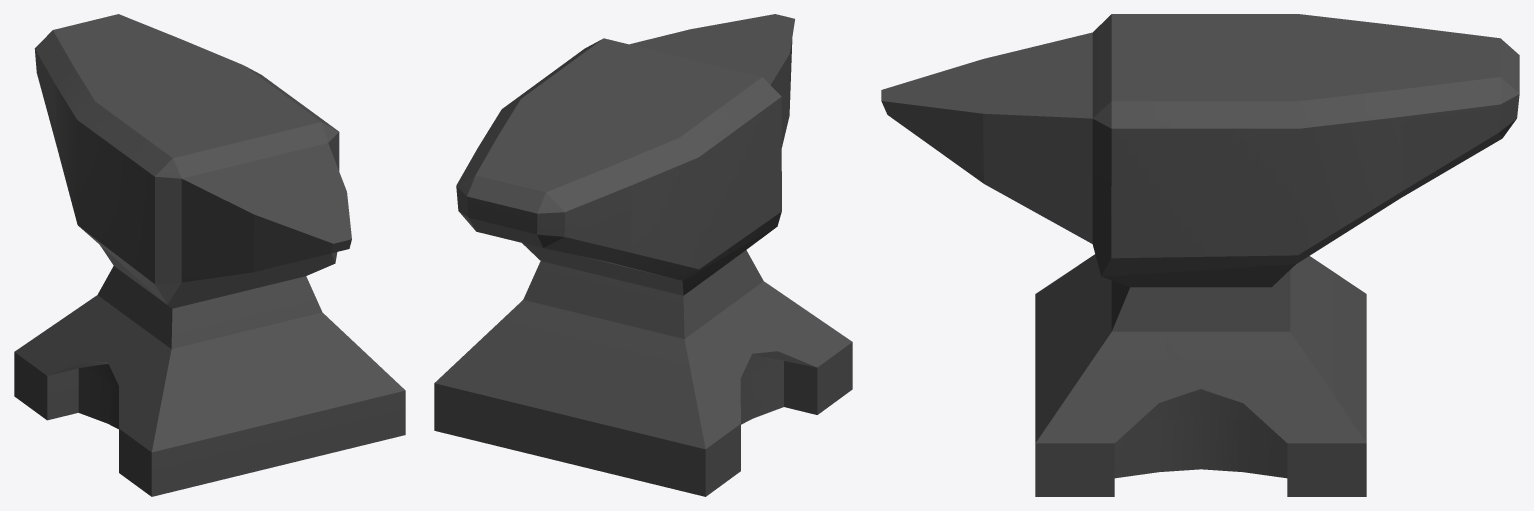
The model's file is Anvil_A.fbx.
The picture shows the model from 3 angles, left to right: view 1: azimuth 30°, elevation 25°; view 2: azimuth 150°, elevation 25°; view 3: azimuth 270°, elevation 25°; orthographic projection. The views are drawn at different scales.
Visible parts, largest first — view 1: Anvil_A; view 2: Anvil_A; view 3: Anvil_A.
Boxes of the visible parts, bbox=[...] form: Anvil_A: bbox=[14, 14, 405, 496]; Anvil_A: bbox=[434, 14, 852, 496]; Anvil_A: bbox=[881, 14, 1519, 496].
Bounding box in the file's own units: 52.14 × 59.39 × 94.2.
